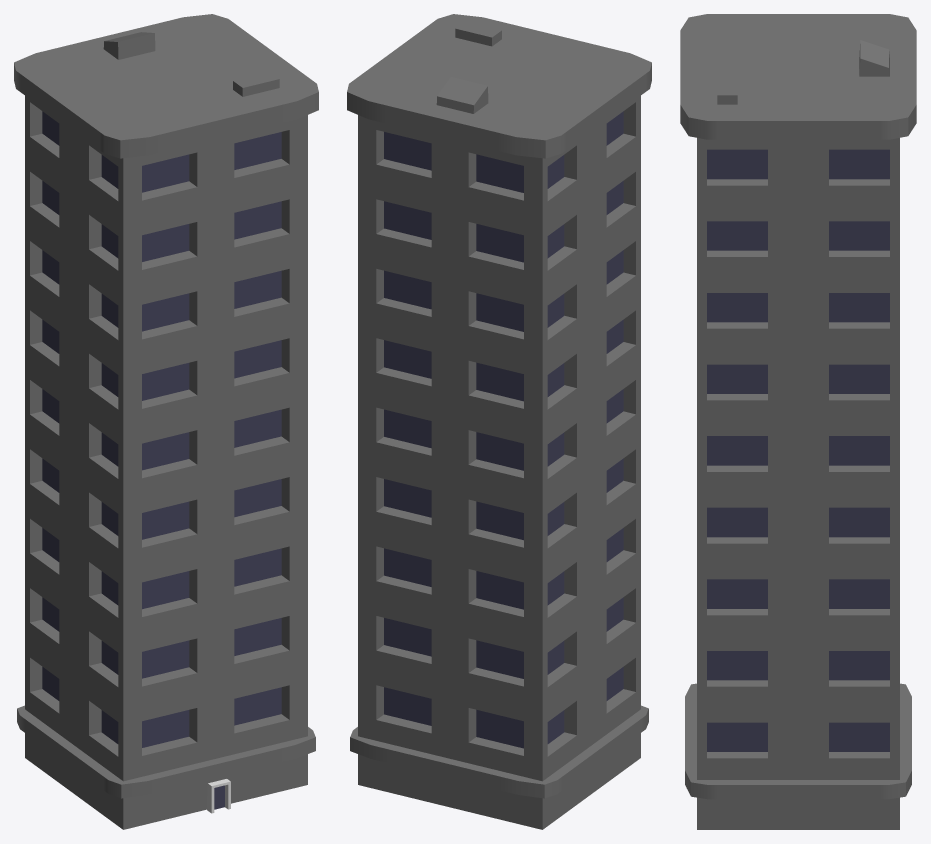
File: Skyscraper 001.fbx
3 views of the same model, side by side, from view 1: azimuth 30°, elevation 25°; view 2: azimuth 150°, elevation 25°; view 3: azimuth 270°, elevation 25° (orthographic). The views are drawn at different scales.
Parts seen in each view (by area): view 1: polySurface2, polySurface1; view 2: polySurface2; view 3: polySurface2.
Part boxes in pixels (box(x1,y1,x2,y2)): polySurface2: box(14, 14, 318, 829); polySurface1: box(207, 779, 230, 813); polySurface2: box(347, 14, 651, 829); polySurface2: box(680, 14, 916, 829).
Size of the model in its own units: 7.75 by 24.83 by 7.23.
